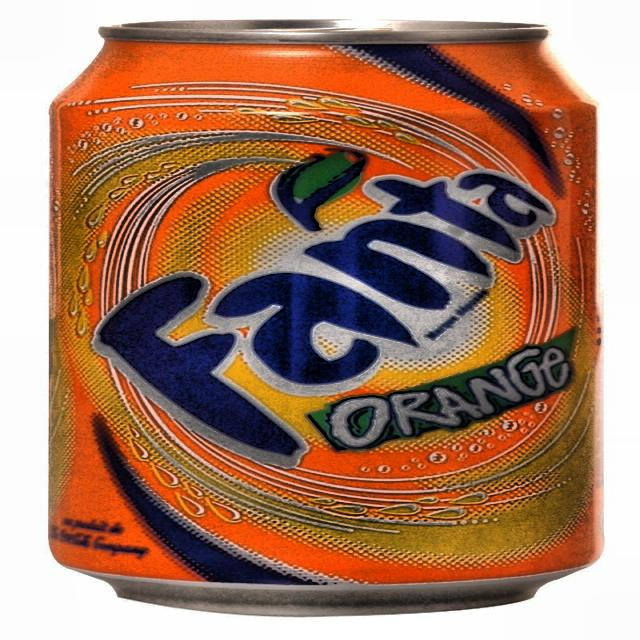Cans: (36, 9, 621, 626)
